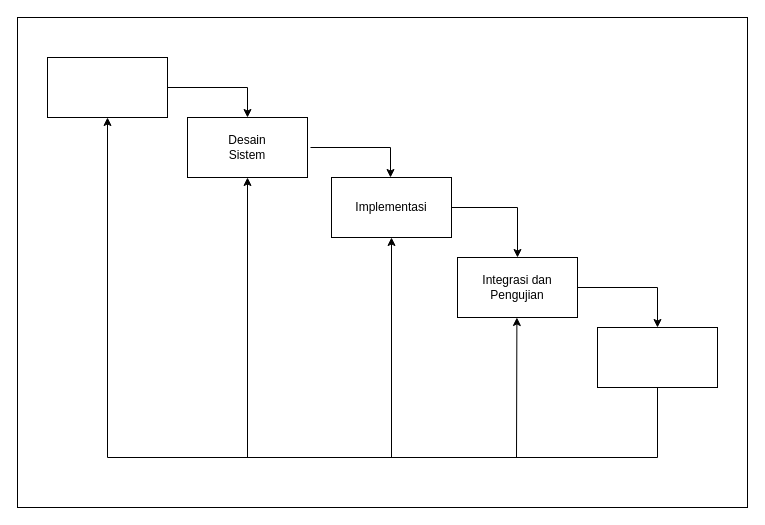
The diagram is 765 pixels wide and 525 high, and some of its shapes have lost their labels. Each missing label, with the centre of its shape:
Analisa Kebutuhan: point (107, 87)
Pemeliharaan: point (657, 357)
